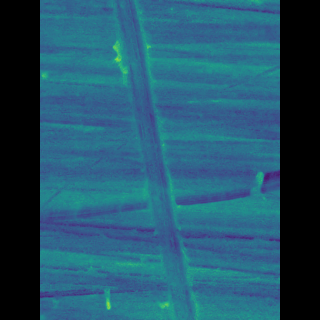Loch: (122, 0, 192, 320), (69, 166, 252, 231)
